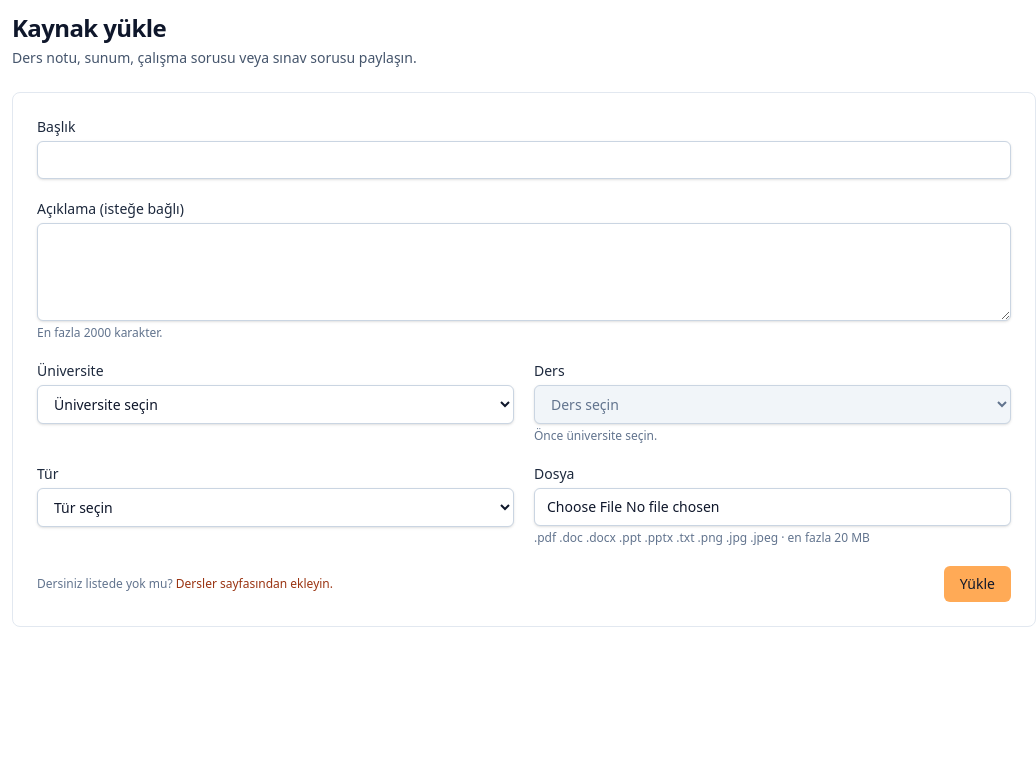
UploadPage › requires every field before sending anything
Click the button "Yükle": click(977, 584) [944,566,1011,602]
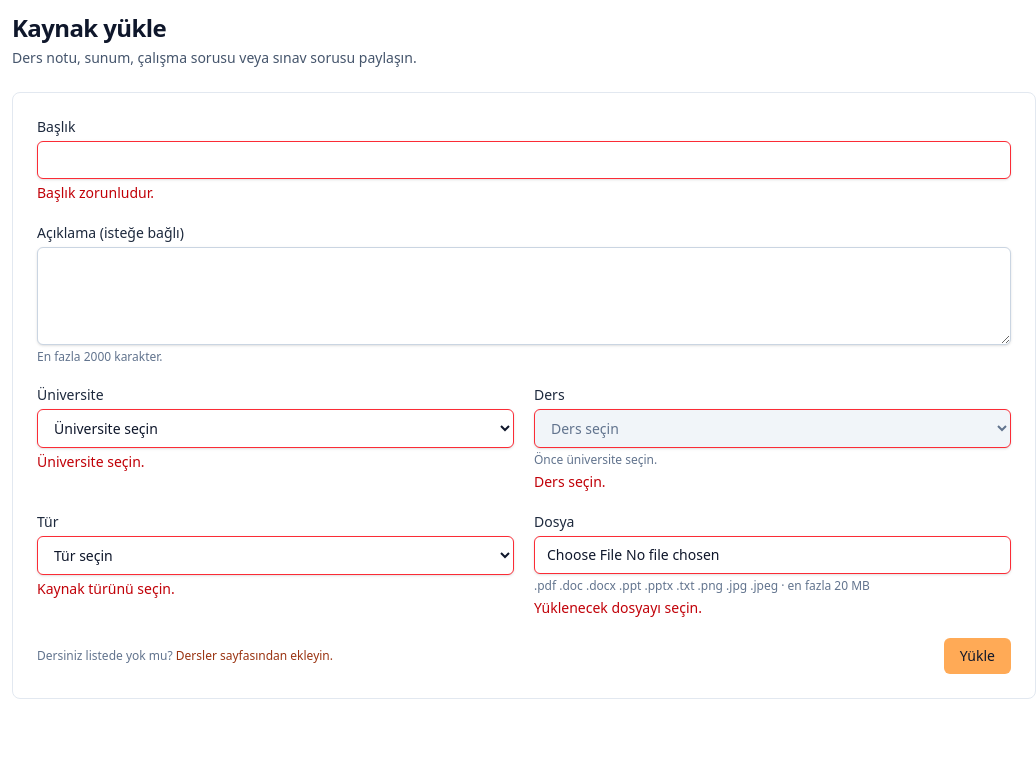
expect the text "Başlık zorunludur." is shown: met, box [37,183,154,202]
expect the text "Üniversite seçin." is shown: met, box [37,452,144,471]
expect the text "Ders seçin." is shown: met, box [534,472,606,491]
